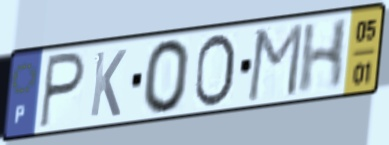H: (295, 15, 352, 98)
K: (87, 47, 129, 120)
M: (244, 20, 306, 104)
O: (141, 36, 192, 117), (191, 31, 237, 110)
P: (36, 49, 87, 132)
